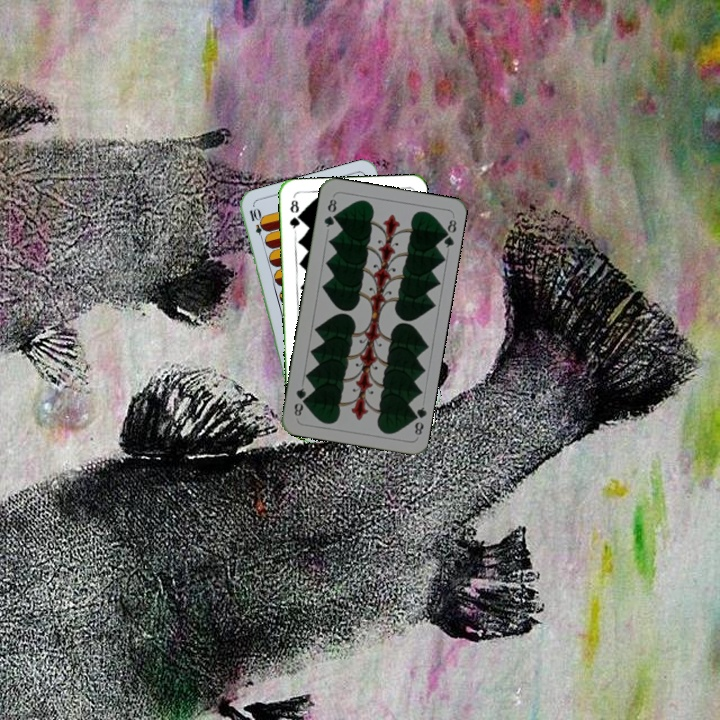E10: (245, 204, 268, 244)
G8: (407, 403, 429, 438), (320, 195, 339, 230), (285, 196, 302, 234)
